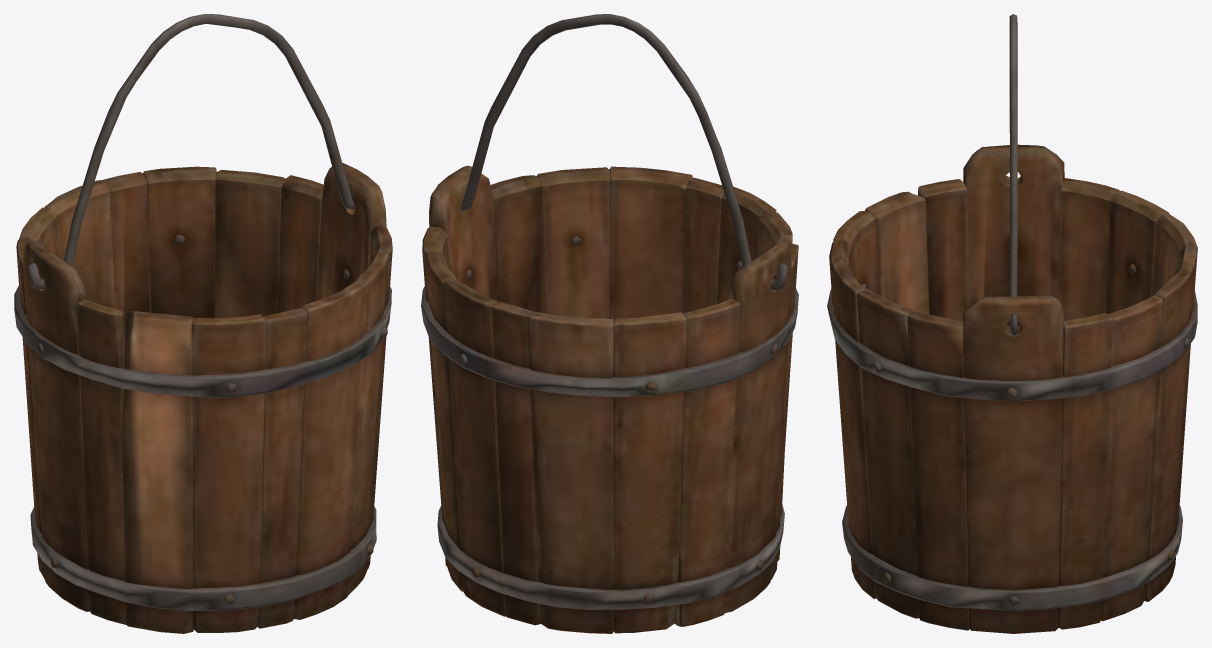
The model's file is bucket-wooden.f33cb9e7.glb.
3 renders of one model, left to right at view 1: azimuth 30°, elevation 25°; view 2: azimuth 150°, elevation 25°; view 3: azimuth 270°, elevation 25°, orthographic.
Visible parts, largest first — view 1: model; view 2: model; view 3: model.
Boxes of the visible parts, x1,y1,x2,y2 form: model: (14,14,392,633); model: (421,14,798,633); model: (827,14,1197,633).
Bounding box in the file's own units: 0.3663 × 0.5499 × 0.3419.
1 material, 1 textured.
